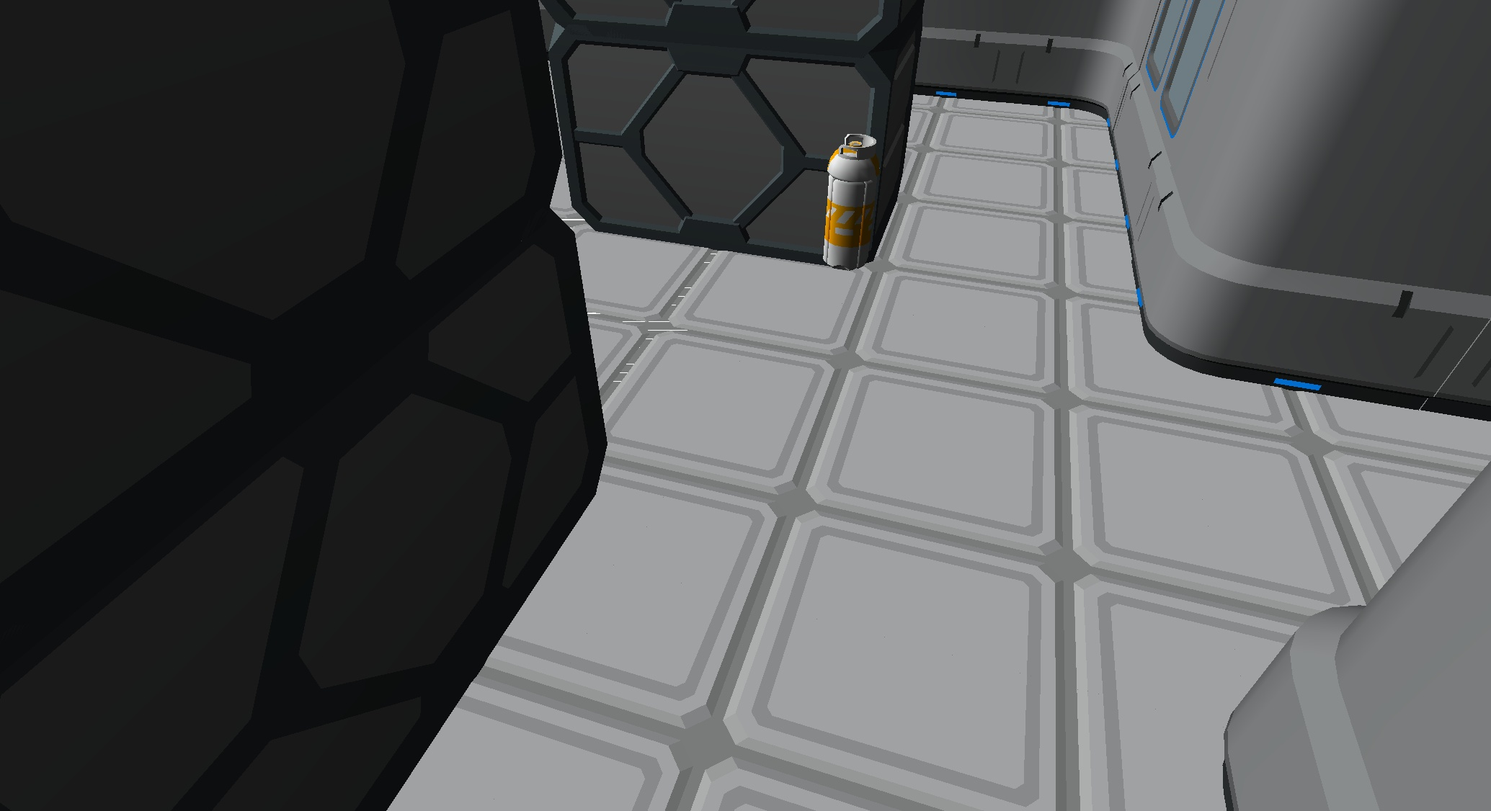yellow_barrel: (824, 134, 880, 269)
